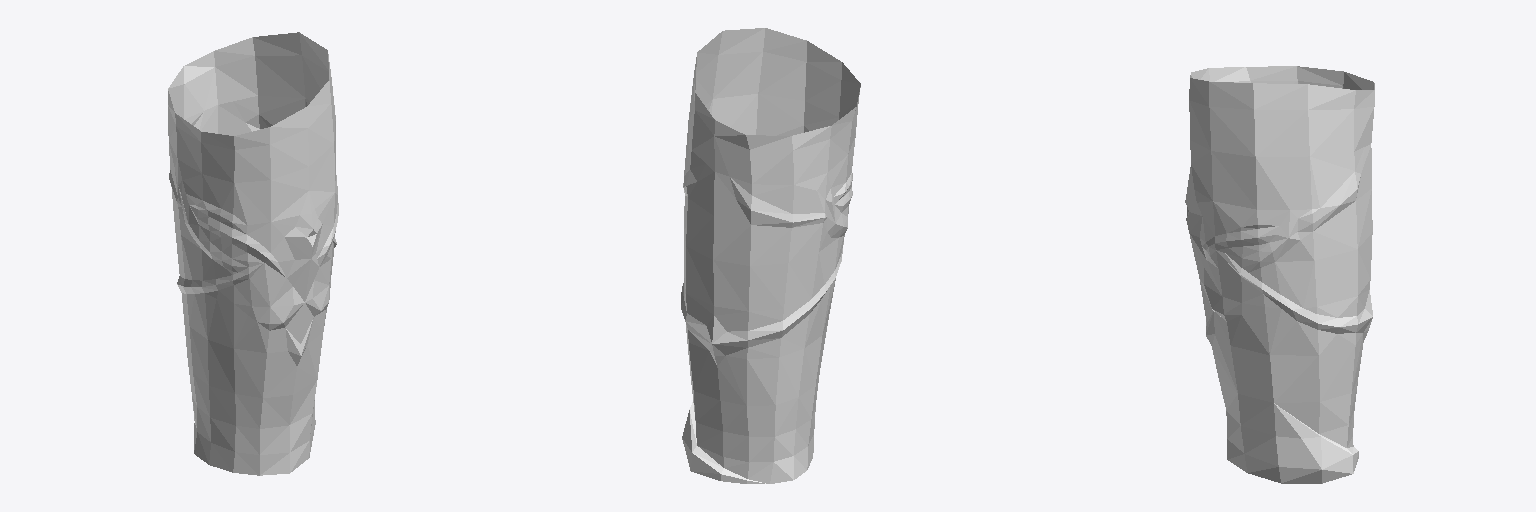
The model's file is Blade_PiernaIzq.obj.
3 views of the same model, side by side, from view 1: azimuth 30°, elevation 25°; view 2: azimuth 150°, elevation 25°; view 3: azimuth 270°, elevation 25° (orthographic).
Parts seen in each view (by area): view 1: Pierna_Izq; view 2: Pierna_Izq; view 3: Pierna_Izq.
Boxes of the visible parts, x1=… form: Pierna_Izq: x1=168, y1=32, x2=338, y2=475; Pierna_Izq: x1=681, y1=28, x2=860, y2=483; Pierna_Izq: x1=1185, y1=66, x2=1374, y2=483.
Bounding box in the file's own units: 0.7964 × 2.12 × 0.9026.